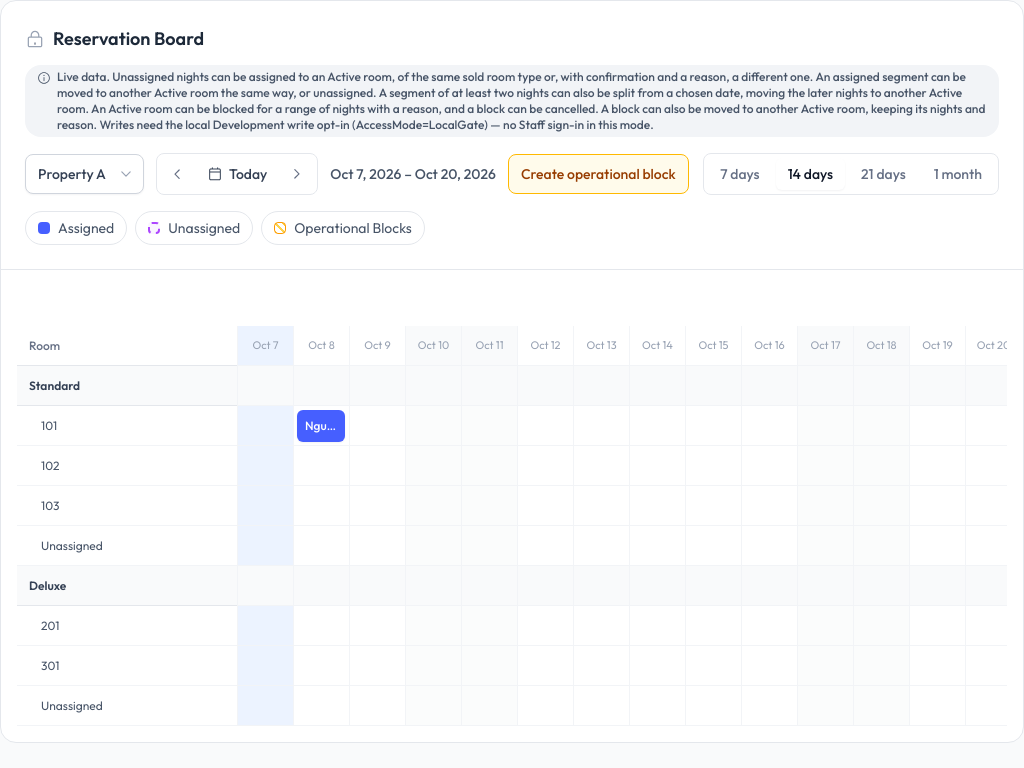
the action (offered, absent, disabled) › is absent for a one-night segment, for an unassigned range and for an operational block
Click the button titled "Nguyen Van A — CNF-100" at (321, 426), box [297,410,345,442]
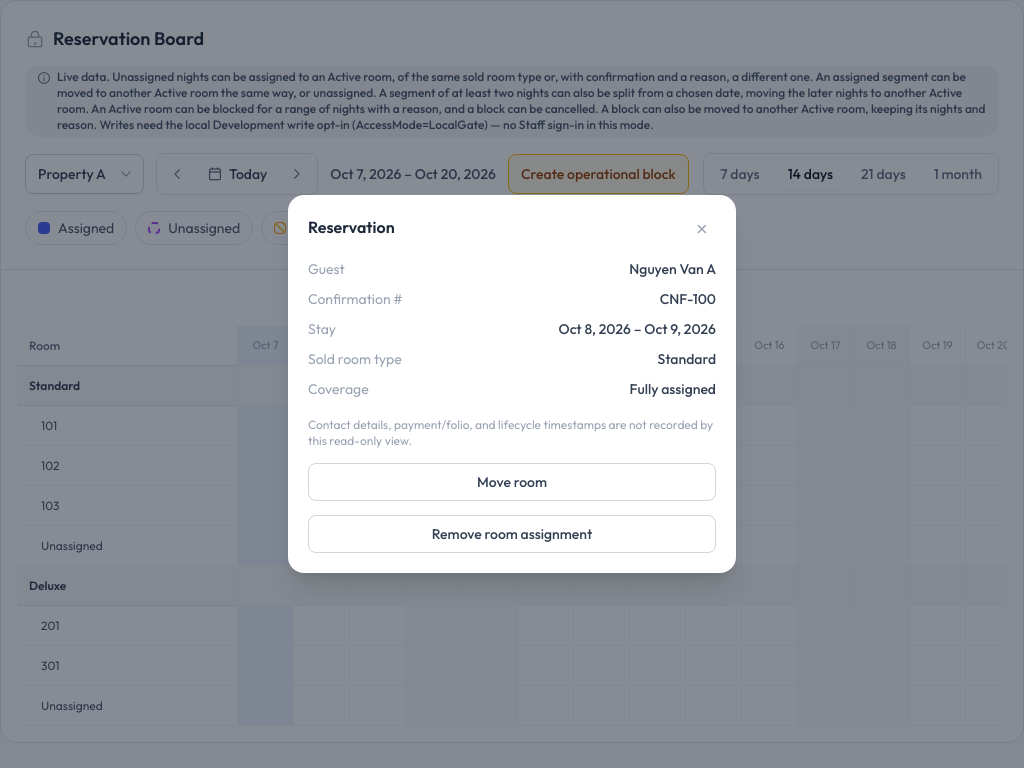
Now the button "Move room" is shown, box [308,463,716,501]
